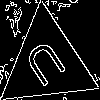U: (22, 38, 74, 96)
